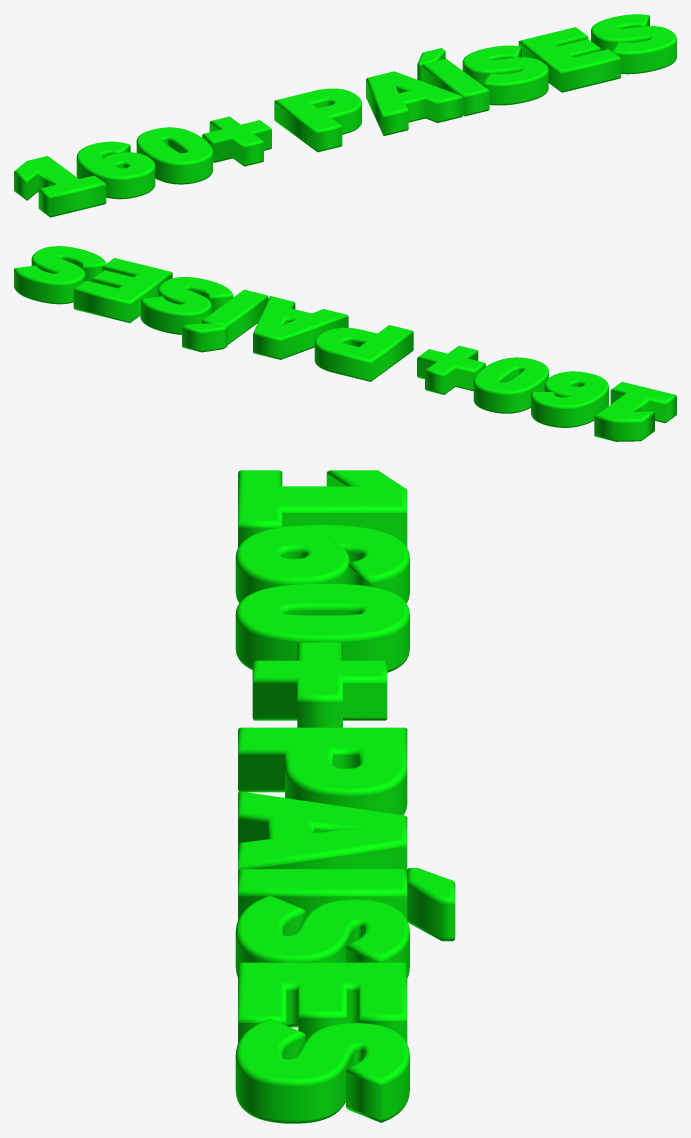
3 views of the same model, one above another, from view 1: azimuth 30°, elevation 25°; view 2: azimuth 150°, elevation 25°; view 3: azimuth 270°, elevation 25° (orthographic). The views are drawn at different scales.
Parts seen in each view (by area): view 1: Text2; view 2: Text2; view 3: Text2.
Part boxes in pixels (x1,y1,x2,y2): Text2: (14, 14, 676, 217); Text2: (14, 246, 676, 441); Text2: (235, 470, 455, 1123).
Size of the model in its own units: 5.32 by 0.18 by 0.8048.
